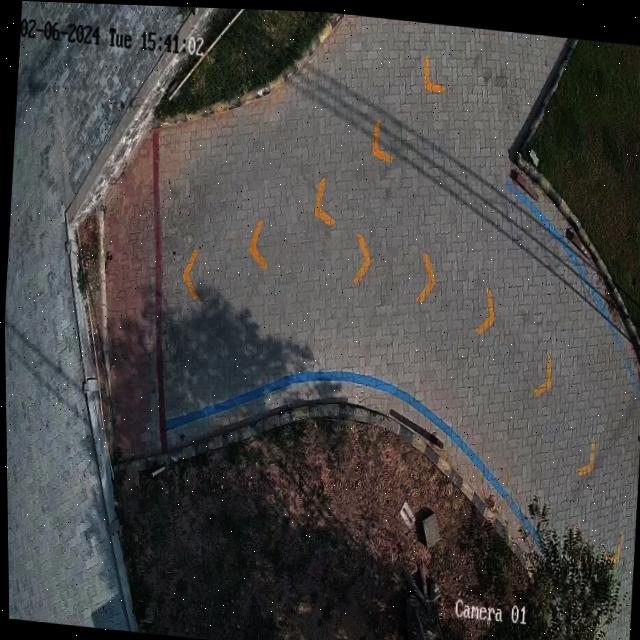No Car: (4, 1, 640, 640)
